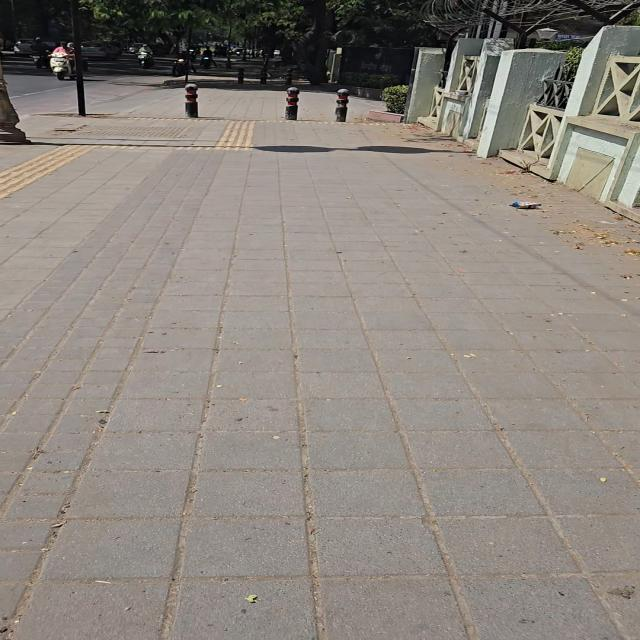bench: (335, 89, 349, 122), (185, 83, 198, 118), (286, 87, 299, 120), (260, 67, 267, 85), (285, 68, 292, 85), (238, 68, 244, 84)
bike: (0, 61, 27, 143), (70, 0, 86, 116), (335, 89, 349, 122), (185, 83, 198, 117), (286, 87, 299, 120), (185, 27, 191, 84), (226, 13, 232, 68)
